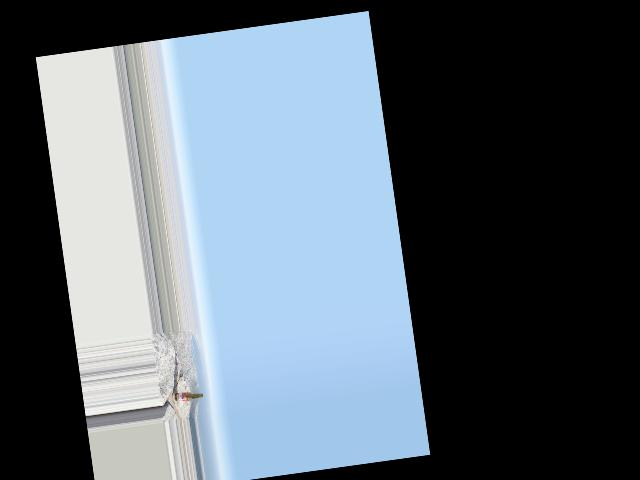beer: (174, 389, 203, 402)
